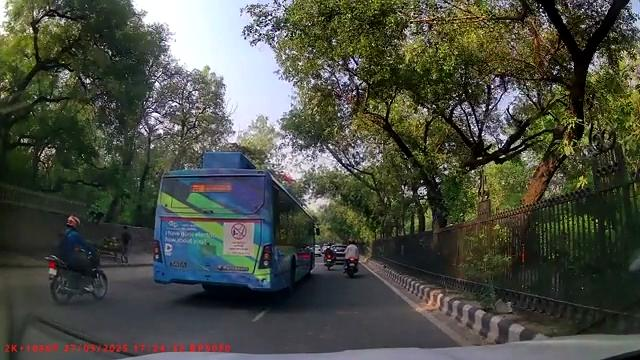motorcycle_with_helmet: (46, 214, 109, 305), (343, 237, 359, 277)
